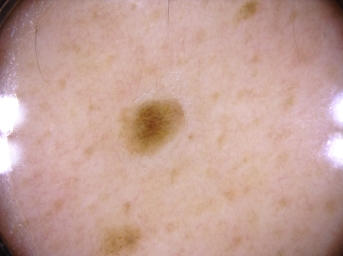seborrheic keratosis: (109, 96, 199, 158)
